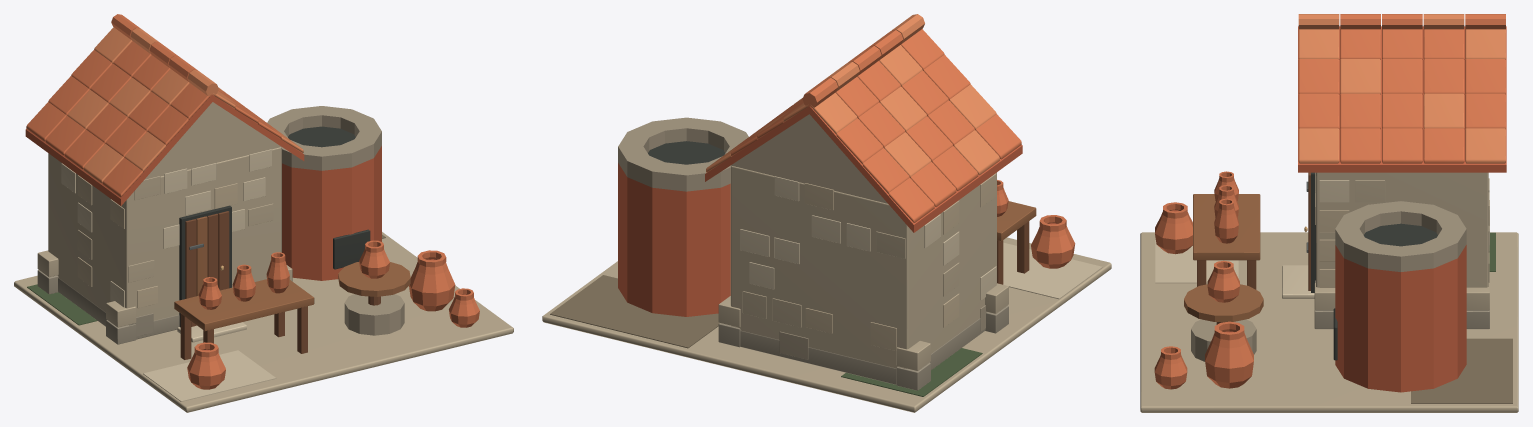
File: potter.glb
3 renders of one model, left to right at view 1: azimuth 30°, elevation 25°; view 2: azimuth 150°, elevation 25°; view 3: azimuth 270°, elevation 25°, orthographic. The views are drawn at different scales.
Visible parts, largest first — view 1: potter; view 2: potter; view 3: potter.
Part boxes in pixels (left/top/right/bottom): potter: left=14, top=14, right=513, bottom=412; potter: left=542, top=14, right=1111, bottom=412; potter: left=1140, top=14, right=1518, bottom=412.
Size of the model in its own units: 2.9 by 2.14 by 2.65.
